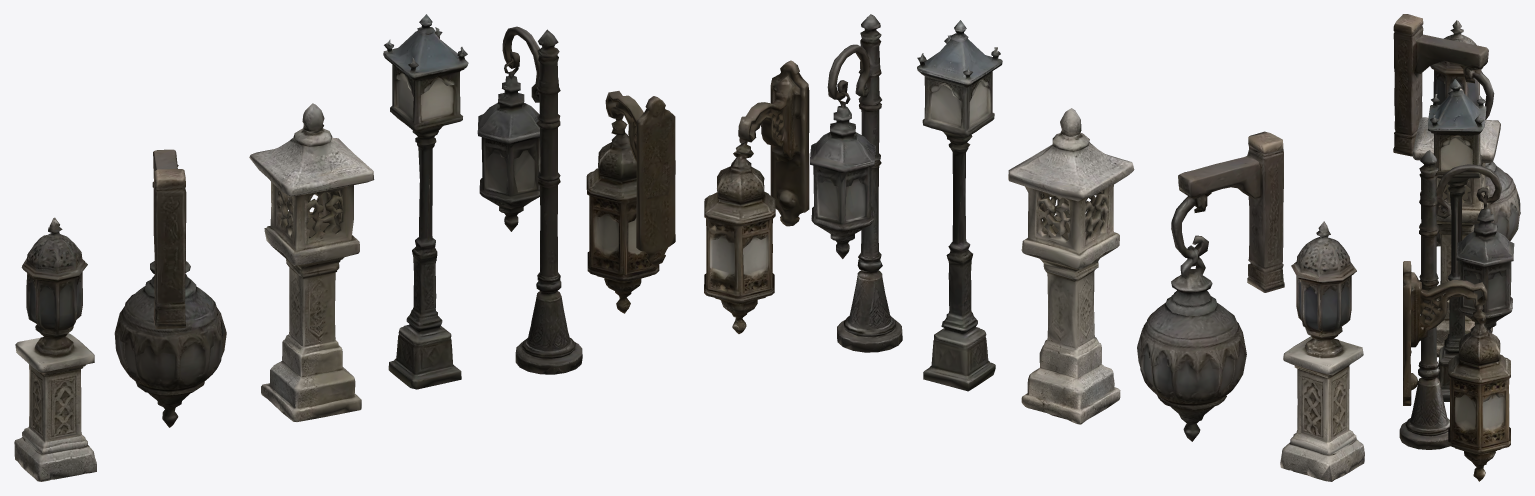
Rendered from lamps_wall_street.glb.
3 views of the same model, side by side, from view 1: azimuth 30°, elevation 25°; view 2: azimuth 150°, elevation 25°; view 3: azimuth 270°, elevation 25° (orthographic). The views are drawn at different scales.
Parts seen in each view (by area): view 1: lamp_stone_pillar, lamp_street_arm, lamp_gate_hanging, lamp_wall_bracket, lamp_pedestal_small, lamp_post; view 2: lamp_stone_pillar, lamp_gate_hanging, lamp_wall_bracket, lamp_street_arm, lamp_pedestal_small, lamp_post; view 3: lamp_street_arm, lamp_wall_bracket, lamp_gate_hanging, lamp_post, lamp_stone_pillar, lamp_pedestal_small.
Boxes of the visible parts, x1,y1,x2,y2 form: lamp_stone_pillar: (249, 103, 374, 421); lamp_street_arm: (477, 26, 582, 374); lamp_gate_hanging: (114, 149, 226, 427); lamp_wall_bracket: (586, 91, 675, 313); lamp_pedestal_small: (14, 217, 96, 481); lamp_post: (383, 14, 468, 389); lamp_stone_pillar: (1008, 108, 1134, 424); lamp_gate_hanging: (1137, 131, 1284, 441); lamp_wall_bracket: (704, 60, 809, 333); lamp_street_arm: (810, 14, 902, 352); lamp_pedestal_small: (1280, 221, 1364, 481); lamp_post: (917, 20, 1002, 391); lamp_street_arm: (1399, 150, 1514, 449); lamp_wall_bracket: (1403, 261, 1510, 481); lamp_gate_hanging: (1393, 14, 1520, 244); lamp_post: (1428, 79, 1486, 401); lamp_stone_pillar: (1413, 88, 1500, 357); lamp_pedestal_small: (1430, 20, 1483, 246).
Bounding box in the file's own units: 0.9861 × 0.5283 × 0.1939.
Materials: 1 (1 with a texture image).
